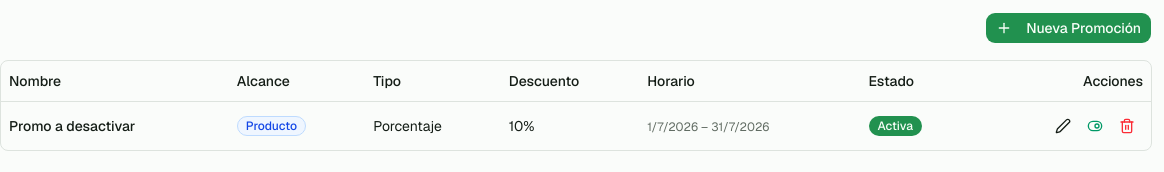
Test: PromotionsShell › toggles an enabled promotion to disabled via the toggle button
Expected: the text "Promo a desactivar" is shown, top-left (1, 101), bottom-right (229, 150)
Expected: the icon "Activa" is shown, top-left (869, 116), bottom-right (922, 136)
Click the 2nd button named "Desactivar": x=1095, y=126 top-left (1079, 110), bottom-right (1111, 142)
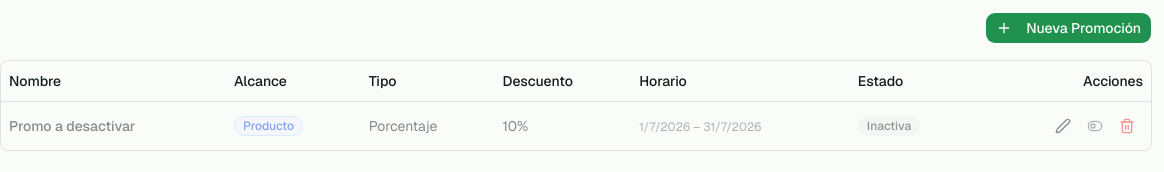
Now the text "Inactiva" is shown, box top-left (858, 116), bottom-right (920, 136)
